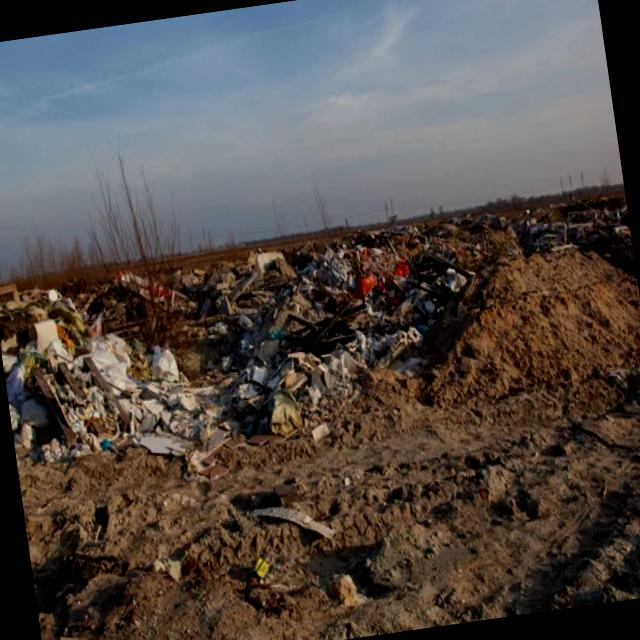garbage: (0, 196, 605, 495)
